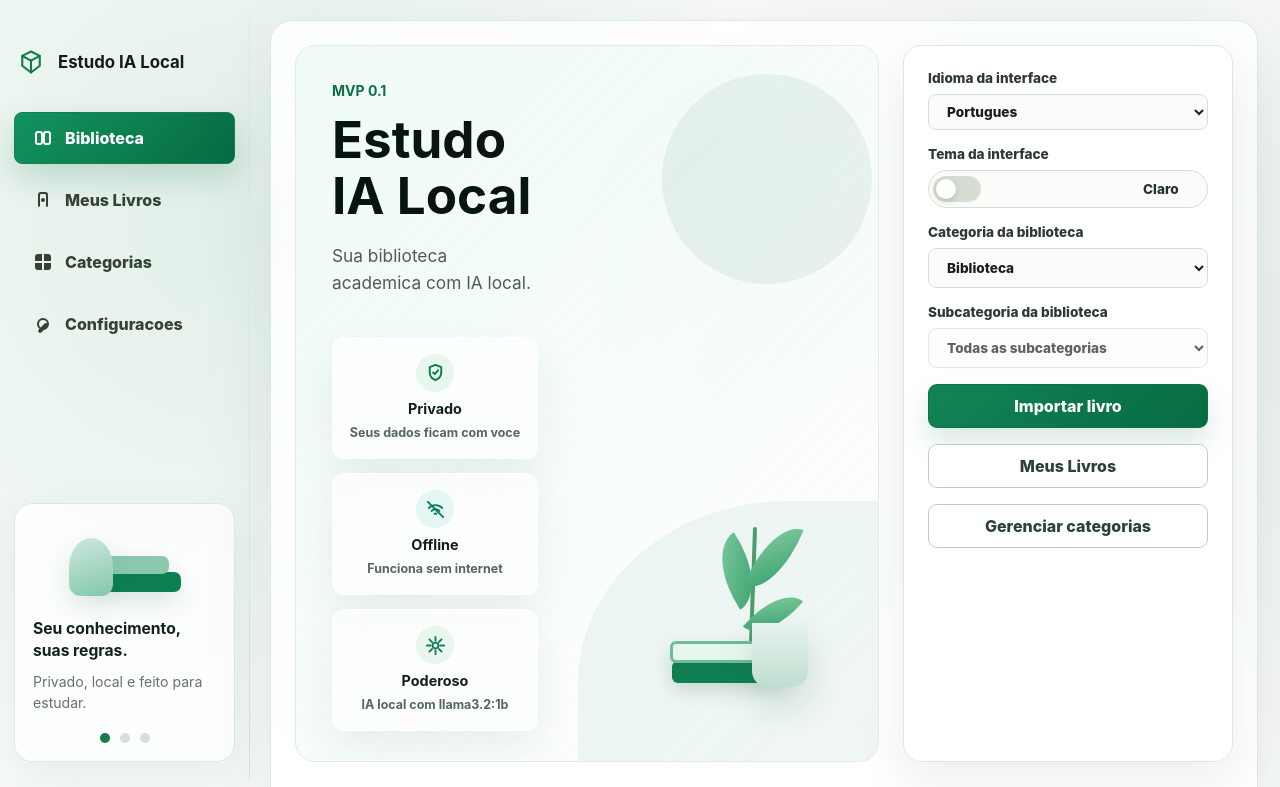
Test: App › loads and saves study classification for the active document
Click the button "Importar livro" at point(1068, 406), box [928,384,1208,428]
(page scrolled)
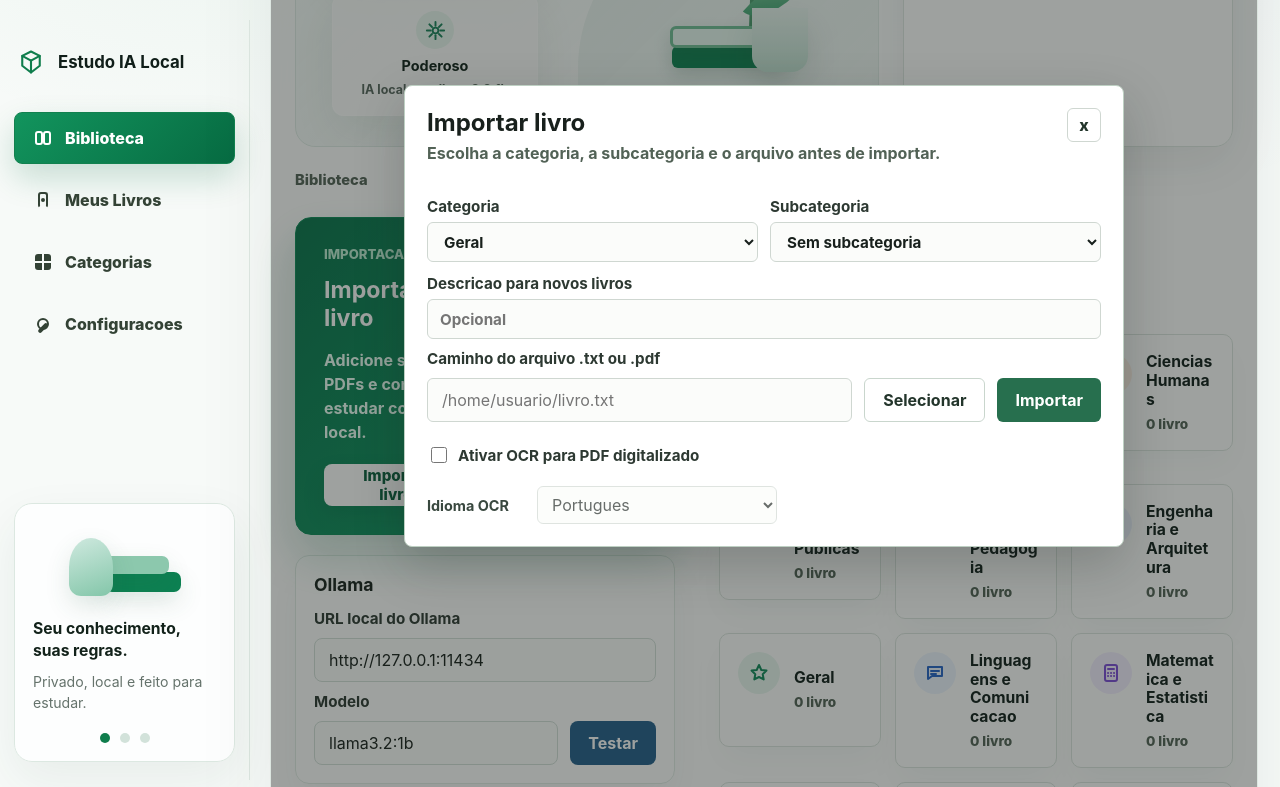
Type "/tmp/python.txt" into the field labelled "Caminho do arquivo .txt ou .pdf" at point(640, 400), box [427,378,852,422]
Click the button "Importar" at point(1049, 400), box [997,378,1101,422]
(page scrolled)
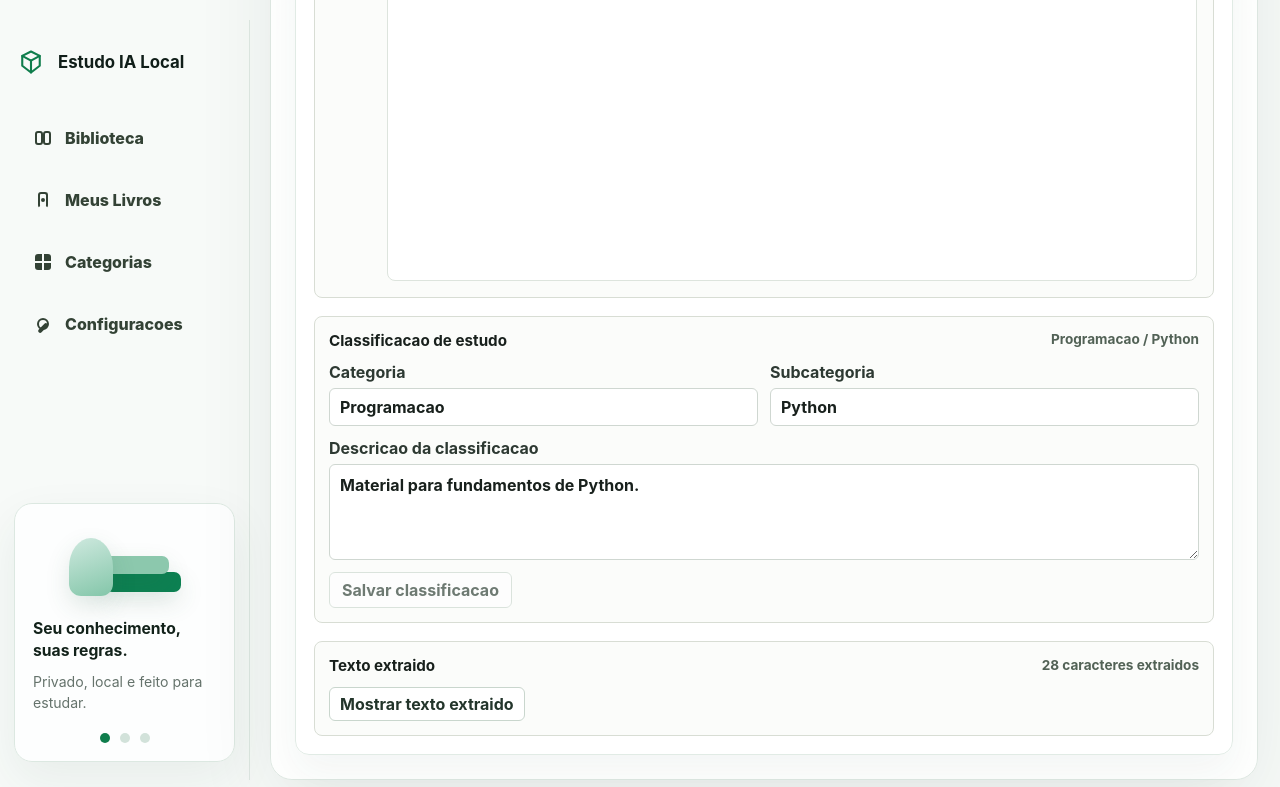
Result: the heading "Classificacao de estudo" is shown at [329,331,507,350]
Result: the field labelled "Categoria" holds "Programacao"
Result: the field labelled "Subcategoria" holds "Python" at [770,388,1199,426]
Replace the text in the field labelled "Categoria" with "Redes" at point(544, 407), box [329,388,758,426]
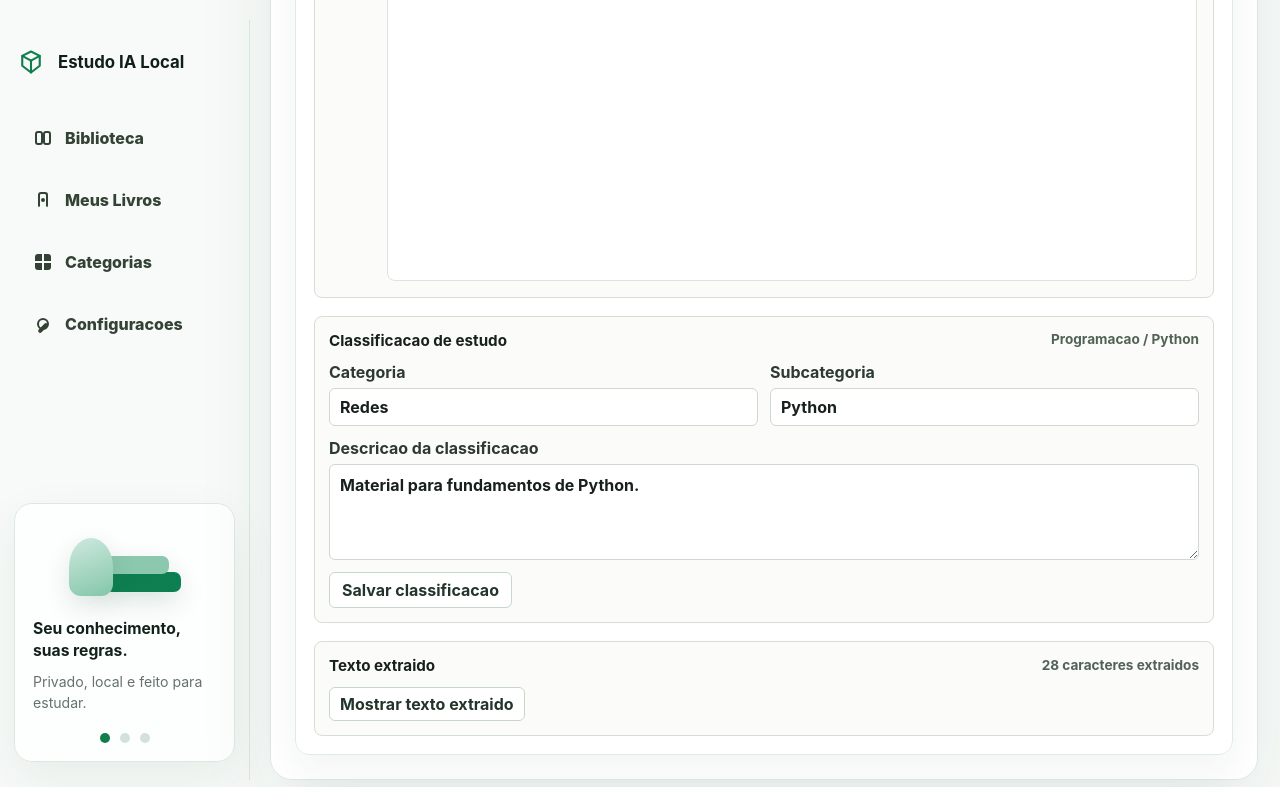
Replace the text in the field labelled "Subcategoria" with "TCP/IP" at point(984, 407), box [770,388,1199,426]
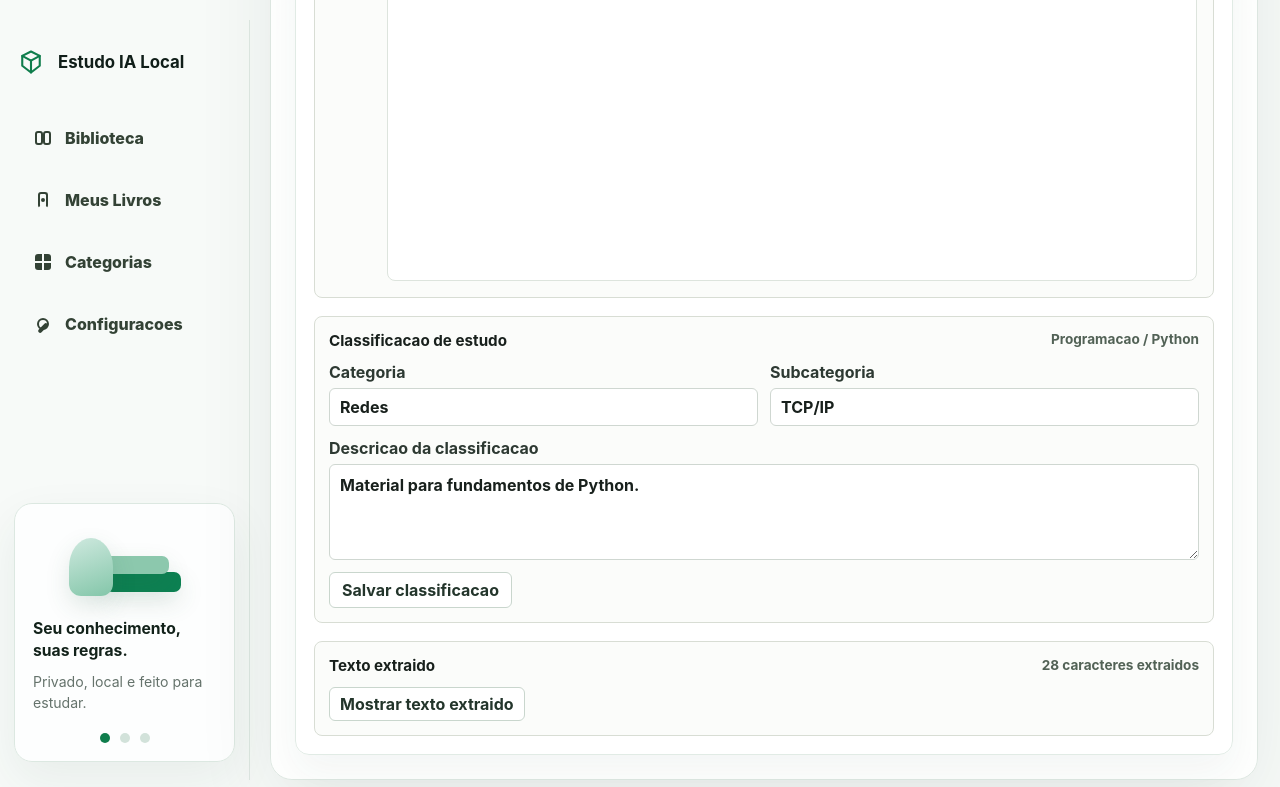
Replace the text in the text box labelled "Descricao da classificacao" with "Base para revisar redes de computadores." at point(764, 512), box [329,464,1199,560]
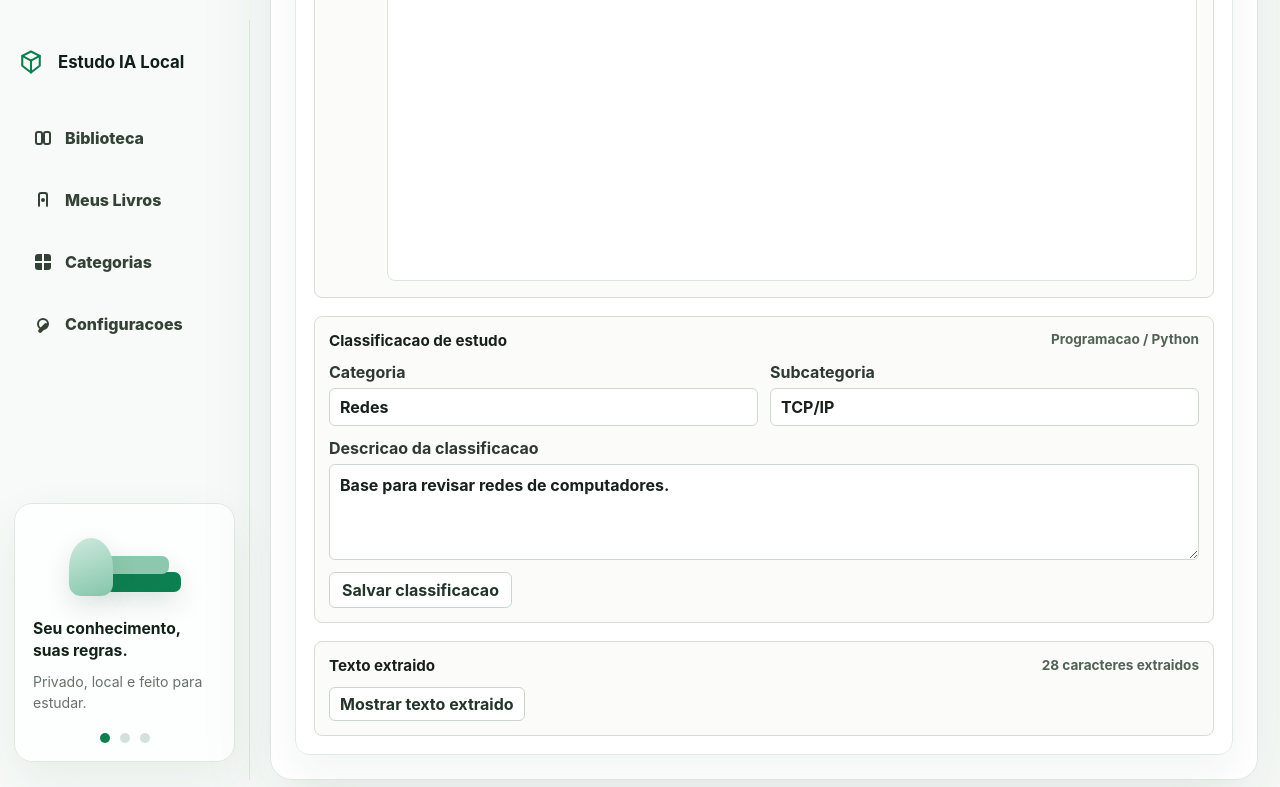
Click the button "Salvar classificacao" at point(420, 590), box [329,572,512,608]
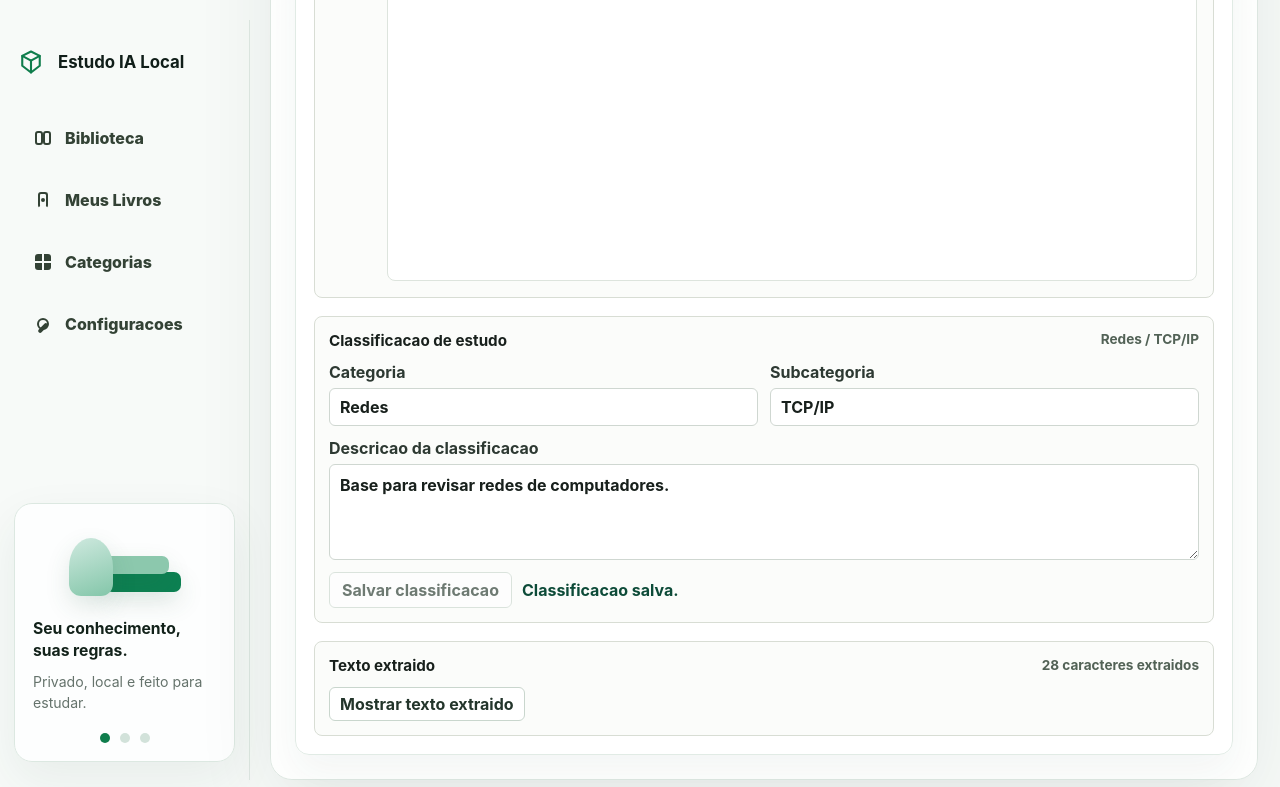
Result: the text "Classificacao salva." is shown at [522,580,679,600]
